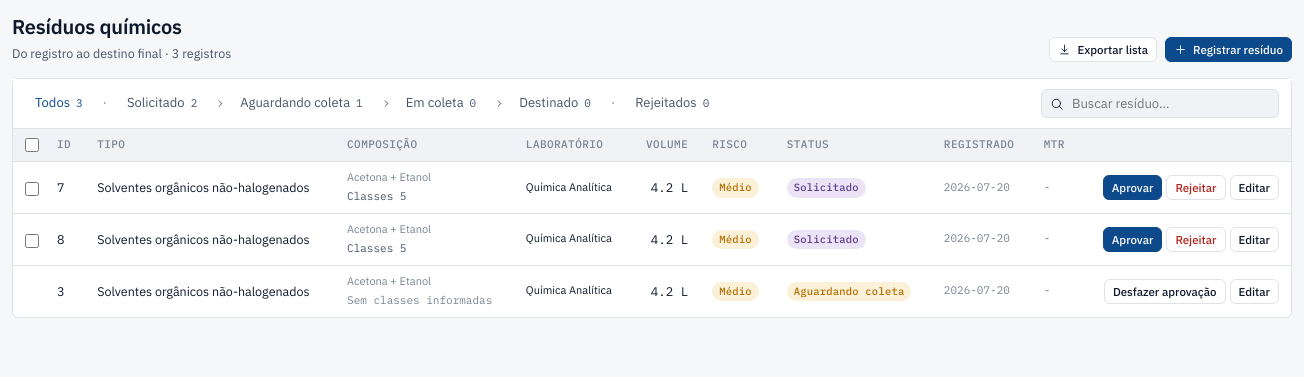
Test: ResiduosScreen — fila de aprovação › seleciona todas as solicitações visíveis pelo cabeçalho
This screenshot has width=1304, height=377.
What coordinates should you click on to do the following:
click the checkbox named "Selecionar todas as solicitações visíveis"
I would click on:
 (32, 145)
Its box is [25, 138, 39, 152].
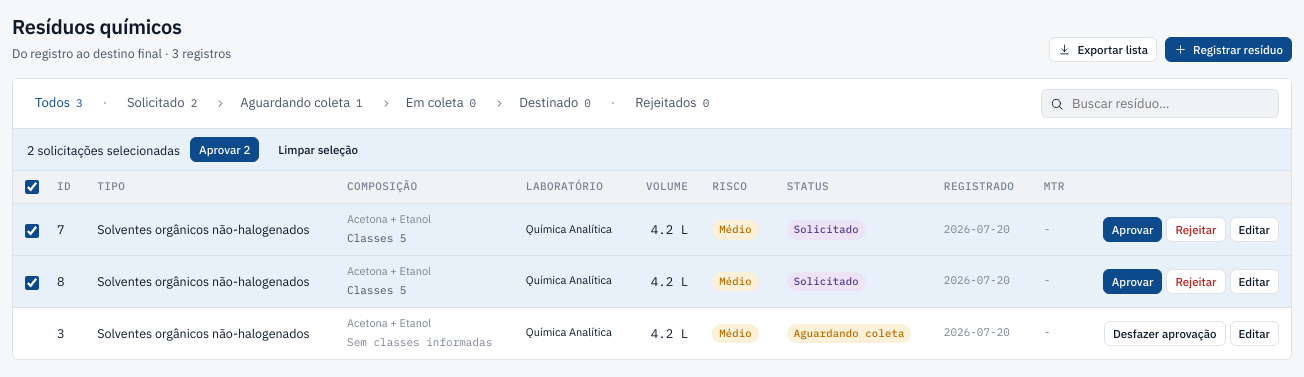
Now the button "Aprovar 2" is shown, box [190, 137, 259, 162]
